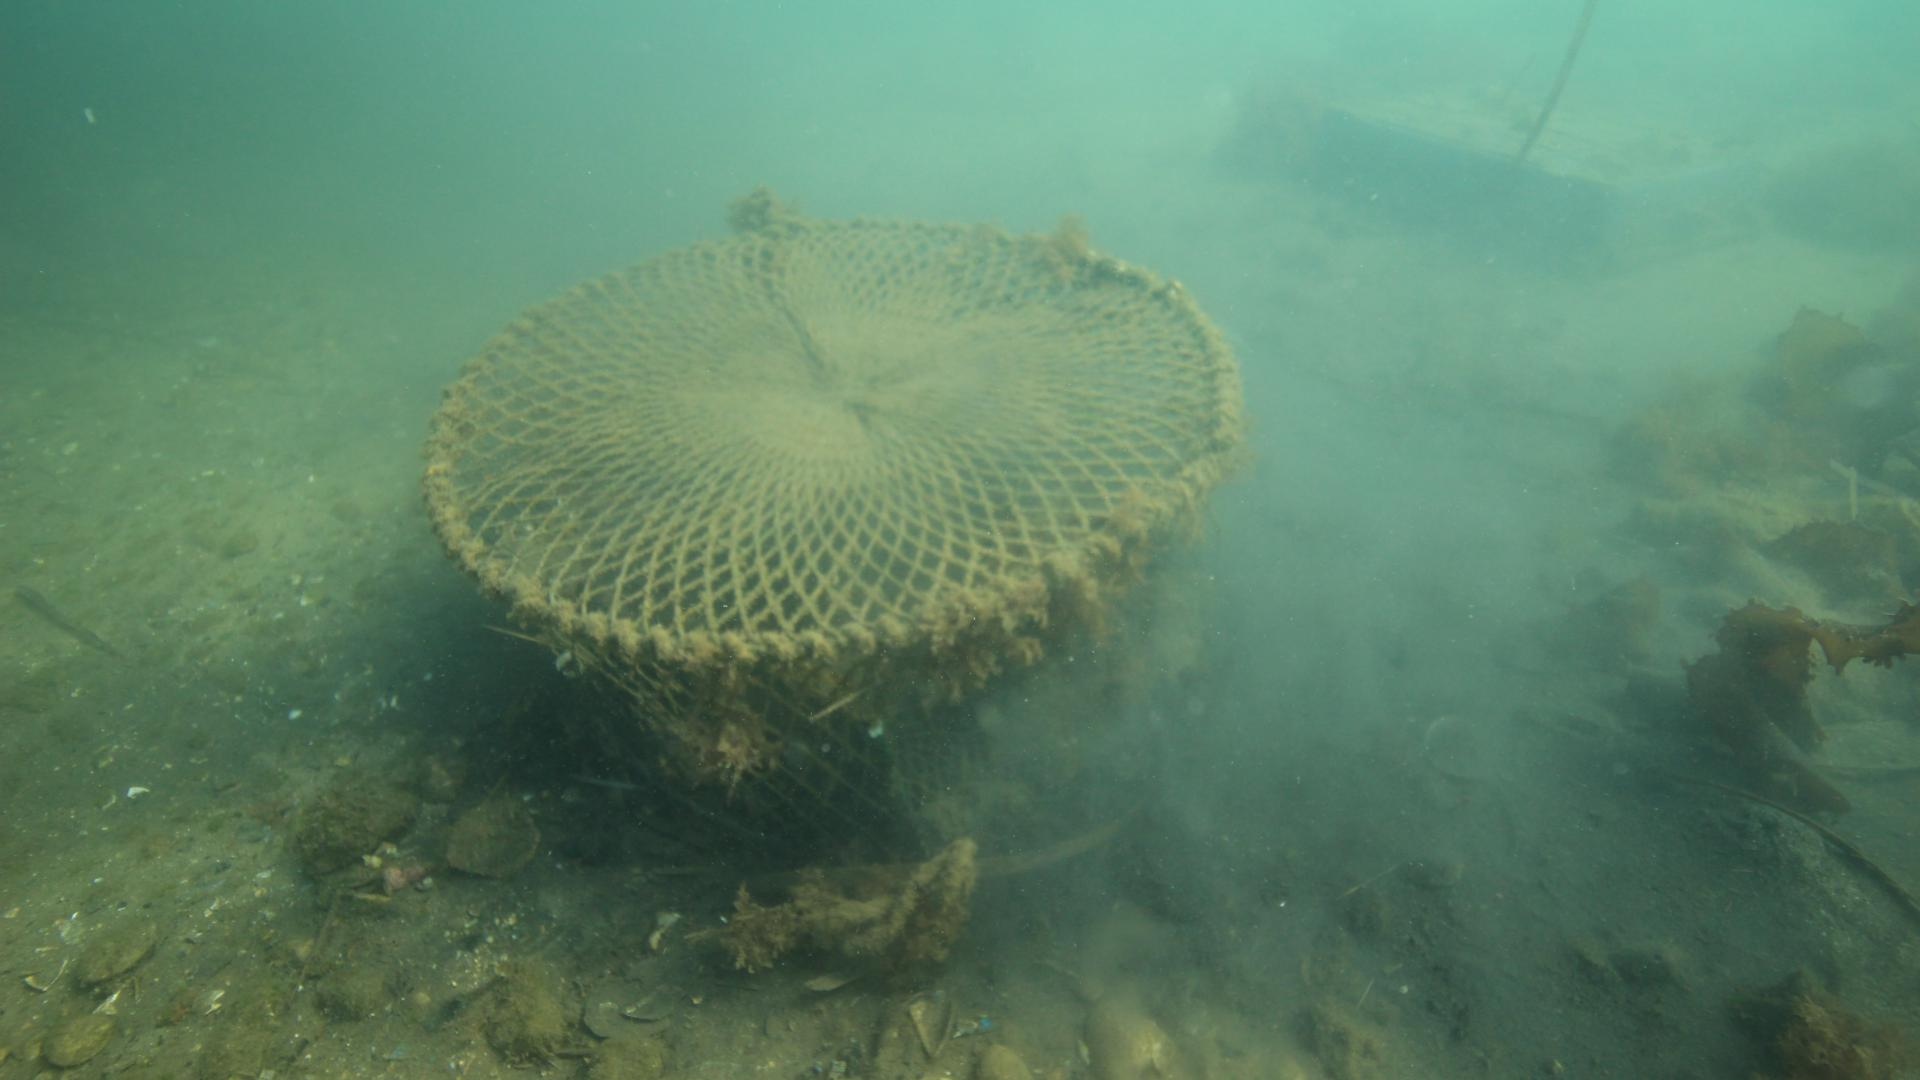circular fish trap: (422, 214, 1247, 858)
